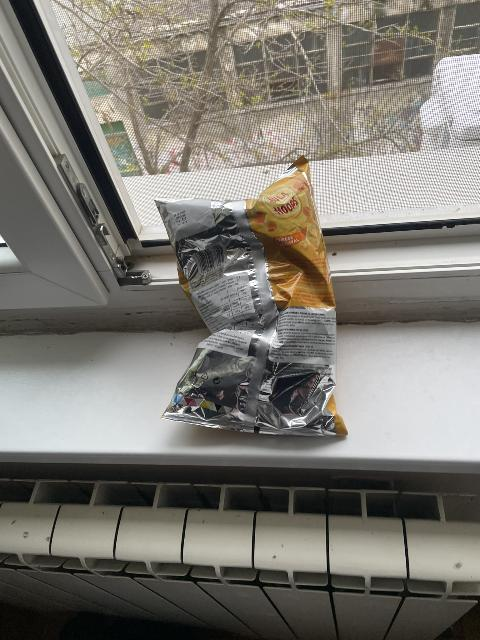Chio Hula Hoops Cheese 70g: (154, 155, 347, 438)
